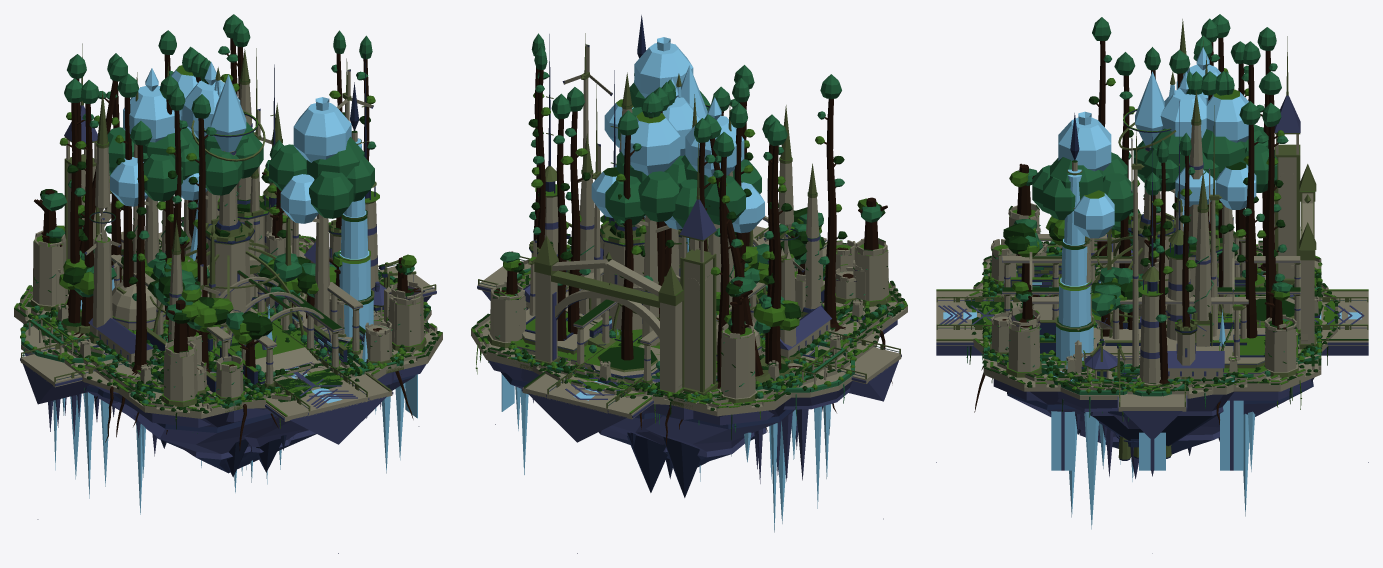
The model's file is sky_citadel_reclaimed_structure.fbx.
3 renders of one model, left to right at view 1: azimuth 30°, elevation 25°; view 2: azimuth 150°, elevation 25°; view 3: azimuth 270°, elevation 25°, orthographic. The views are drawn at different scales.
Parts seen in each view (by area): view 1: chunk_sky_tree_grove__reclaimed, chunk_spire_court__reclaimed, chunk_boss_clearing__reclaimed, chunk_aether_springs__reclaimed, chunk_parade_ground__reclaimed, chunk_path_colonnade__reclaimed, chunk_spire_court_b__reclaimed, chunk_archive__reclaimed, chunk_garden_terrace__reclaimed, chunk_side_garden__reclaimed, chunk_path_shattered__reclaimed, chunk_path_bend__reclaimed (+22 smaller); view 2: chunk_spire_court__reclaimed, chunk_garden_terrace__reclaimed, chunk_archive__reclaimed, chunk_sky_tree_grove__reclaimed, chunk_parade_ground__reclaimed, chunk_boss_clearing__reclaimed, chunk_path_colonnade__reclaimed, chunk_aether_springs__reclaimed, chunk_spire_court_b__reclaimed, chunk_armory__reclaimed, chunk_path_long_span__reclaimed, chunk_entry__reclaimed (+17 smaller); view 3: chunk_spire_court__reclaimed, chunk_aether_springs__reclaimed, chunk_garden_terrace__reclaimed, chunk_sky_tree_grove__reclaimed, chunk_archive__reclaimed, chunk_boss_clearing__reclaimed, chunk_parade_ground__reclaimed, chunk_armory__reclaimed, chunk_spire_court_b__reclaimed, chunk_dockside__reclaimed, chunk_crossroads__reclaimed, chunk_path_colonnade__reclaimed (+19 smaller).
Part boxes in pixels (x1,y1,x2,y2): chunk_sky_tree_grove__reclaimed: [64, 68, 404, 475]; chunk_spire_court__reclaimed: [14, 22, 442, 473]; chunk_boss_clearing__reclaimed: [36, 30, 413, 450]; chunk_aether_springs__reclaimed: [20, 82, 425, 553]; chunk_parade_ground__reclaimed: [20, 14, 435, 427]; chunk_path_colonnade__reclaimed: [37, 78, 359, 479]; chunk_spire_court_b__reclaimed: [50, 58, 405, 472]; chunk_archive__reclaimed: [64, 43, 397, 422]; chunk_garden_terrace__reclaimed: [20, 65, 431, 498]; chunk_side_garden__reclaimed: [150, 62, 352, 395]; chunk_path_shattered__reclaimed: [71, 91, 391, 486]; chunk_path_bend__reclaimed: [205, 149, 436, 492]; chunk_spire_court__reclaimed: [471, 87, 907, 466]; chunk_garden_terrace__reclaimed: [559, 112, 856, 508]; chunk_archive__reclaimed: [509, 143, 851, 435]; chunk_sky_tree_grove__reclaimed: [510, 37, 855, 446]; chunk_parade_ground__reclaimed: [477, 93, 901, 440]; chunk_boss_clearing__reclaimed: [510, 110, 892, 416]; chunk_path_colonnade__reclaimed: [554, 120, 812, 523]; chunk_aether_springs__reclaimed: [488, 15, 901, 553]; chunk_spire_court_b__reclaimed: [508, 33, 871, 492]; chunk_armory__reclaimed: [522, 132, 865, 497]; chunk_path_long_span__reclaimed: [515, 74, 864, 478]; chunk_entry__reclaimed: [550, 103, 822, 392]; chunk_spire_court__reclaimed: [982, 41, 1368, 454]; chunk_aether_springs__reclaimed: [936, 113, 1368, 553]; chunk_garden_terrace__reclaimed: [983, 89, 1323, 529]; chunk_sky_tree_grove__reclaimed: [989, 47, 1316, 368]; chunk_archive__reclaimed: [936, 36, 1368, 364]; chunk_boss_clearing__reclaimed: [936, 71, 1339, 421]; chunk_parade_ground__reclaimed: [941, 102, 1368, 424]; chunk_armory__reclaimed: [936, 27, 1368, 446]; chunk_spire_court_b__reclaimed: [980, 125, 1321, 439]; chunk_dockside__reclaimed: [981, 139, 1322, 478]; chunk_crossroads__reclaimed: [939, 71, 1368, 440]; chunk_path_colonnade__reclaimed: [953, 14, 1367, 365].
Size of the model in its own units: 256 by 256 by 256.
